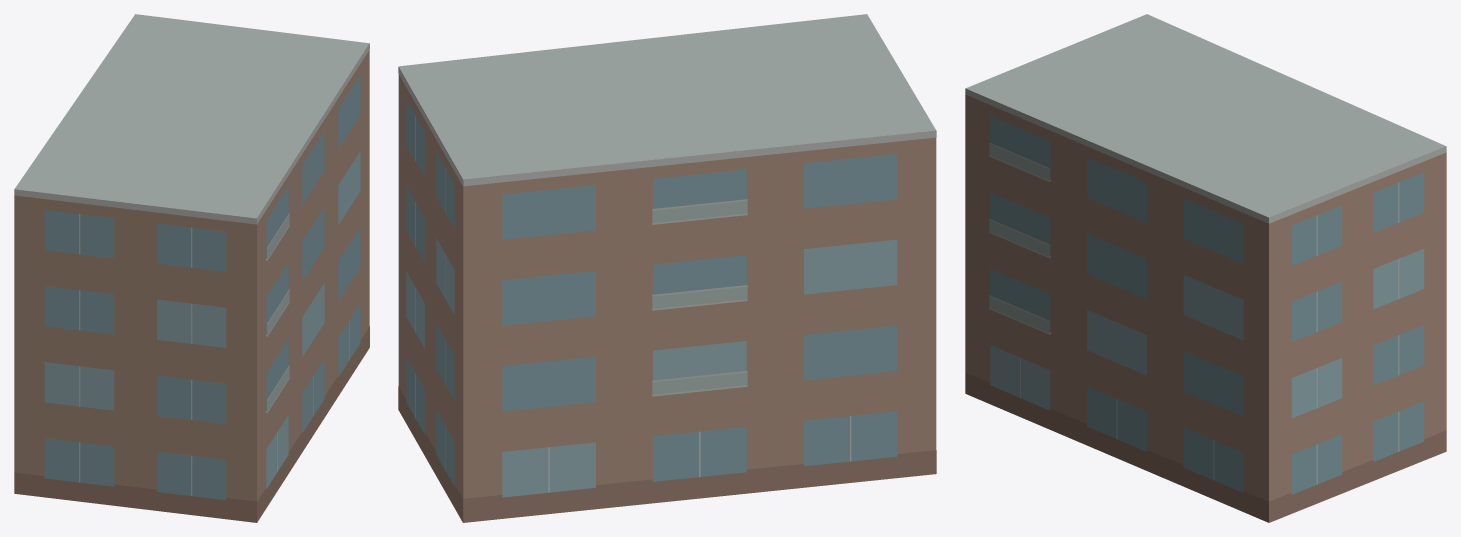
The model's file is survey-upis-32639873.glb.
3 renders of one model, left to right at view 1: azimuth 30°, elevation 25°; view 2: azimuth 150°, elevation 25°; view 3: azimuth 270°, elevation 25°, orthographic. The views are drawn at different scales.
Visible parts, largest first — view 1: survey-upis-32639873.tmp; view 2: survey-upis-32639873.tmp; view 3: survey-upis-32639873.tmp.
Part boxes in pixels (x1,y1,x2,y2): survey-upis-32639873.tmp: (14,14,369,522); survey-upis-32639873.tmp: (398,14,936,522); survey-upis-32639873.tmp: (965,14,1446,522).
Size of the model in its own units: 17.46 by 12.2 by 17.44.
